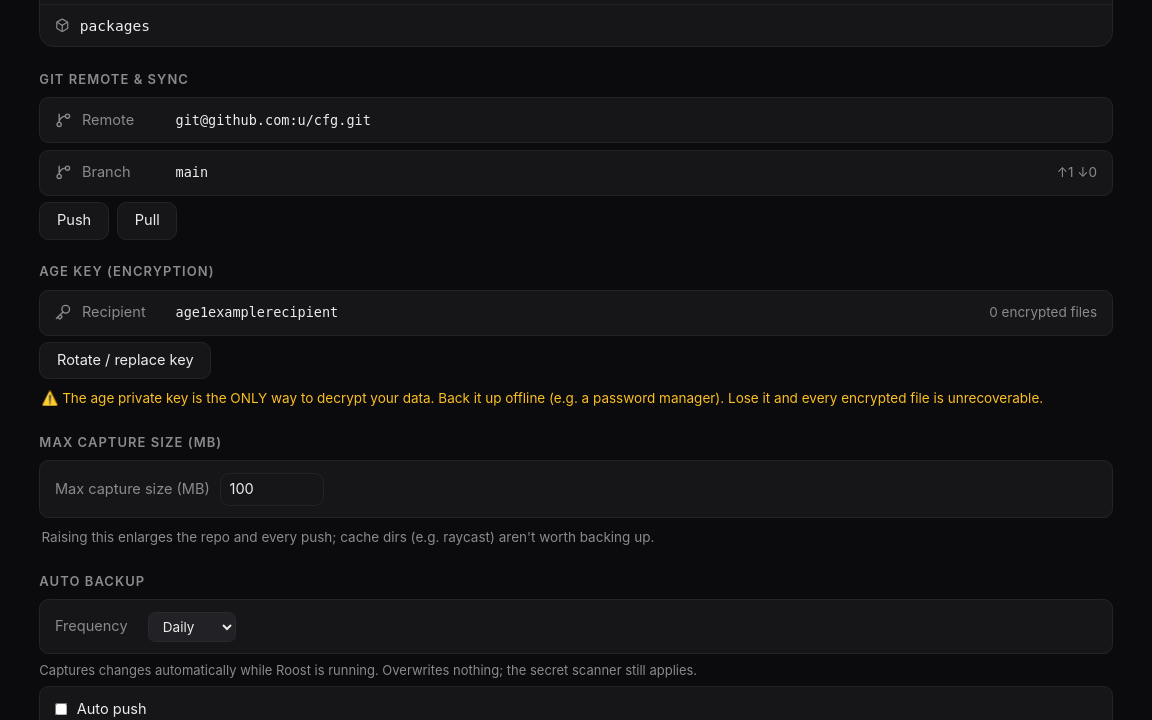
Test: Settings › rotate success message guides commit/push and other-Mac key import
(page scrolled)
Click the button "Rotate / replace key". click: (125,361)
box: [39, 342, 211, 379]
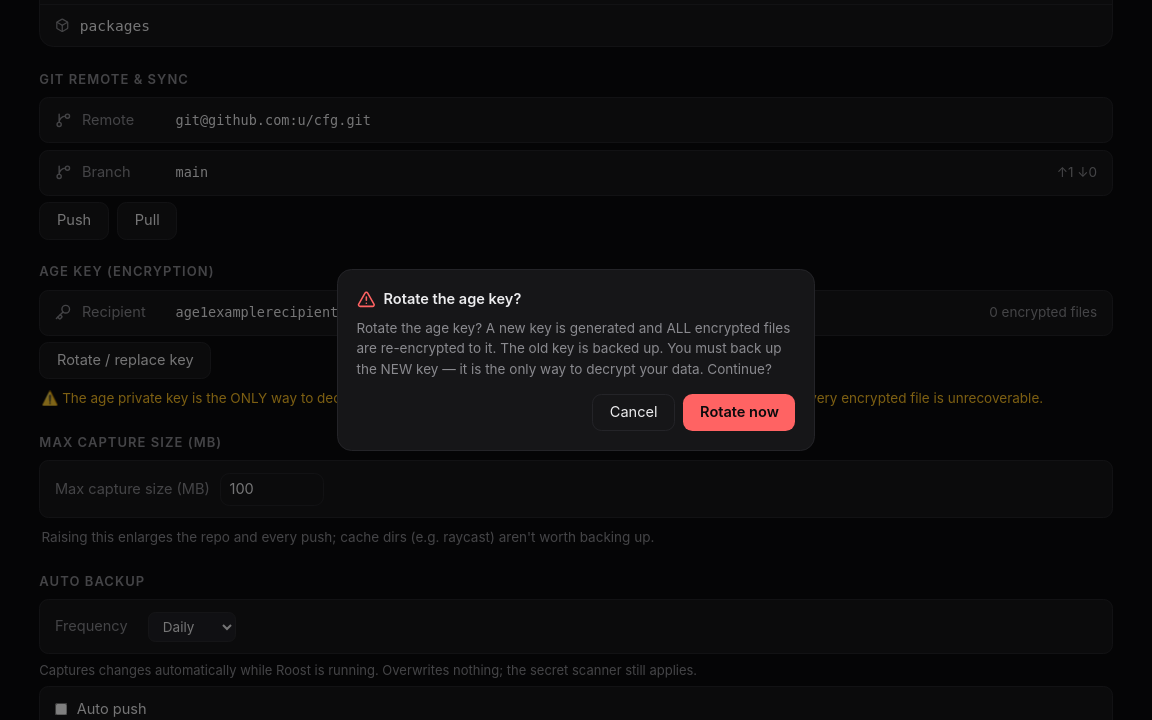
Click the button "Rotate now". click: (740,412)
box: [684, 394, 796, 431]
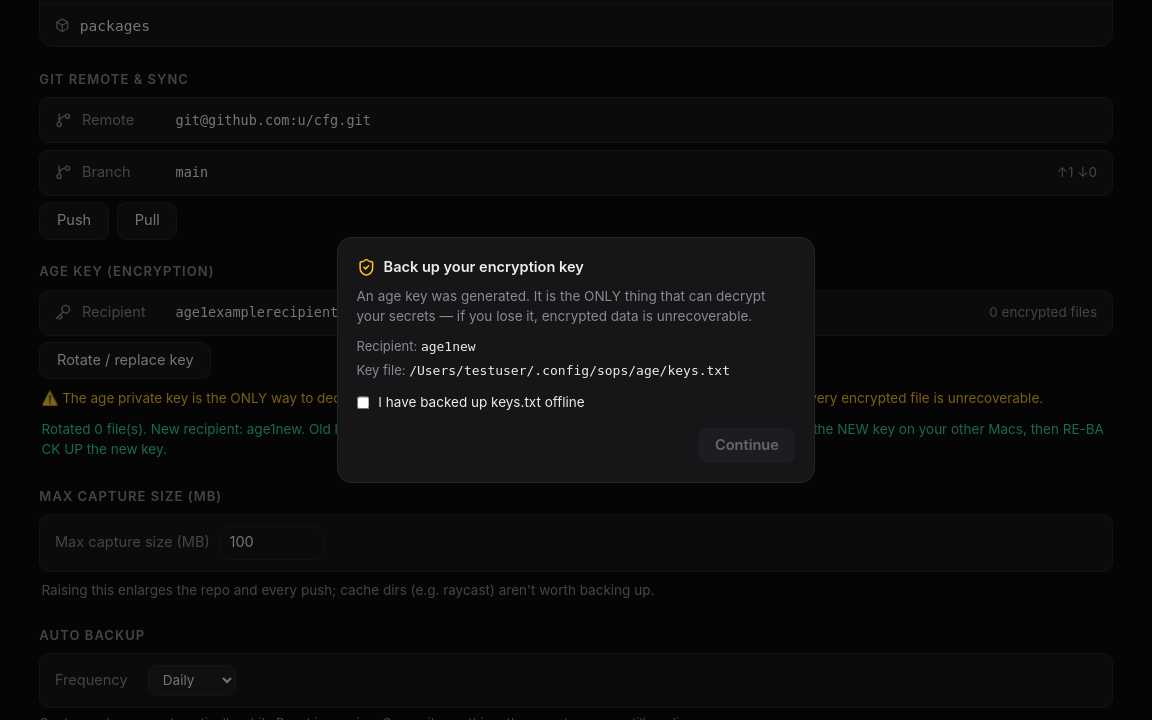
Expected: the text "import the NEW key on your other Macs" is shown, [41, 421, 1104, 457]
